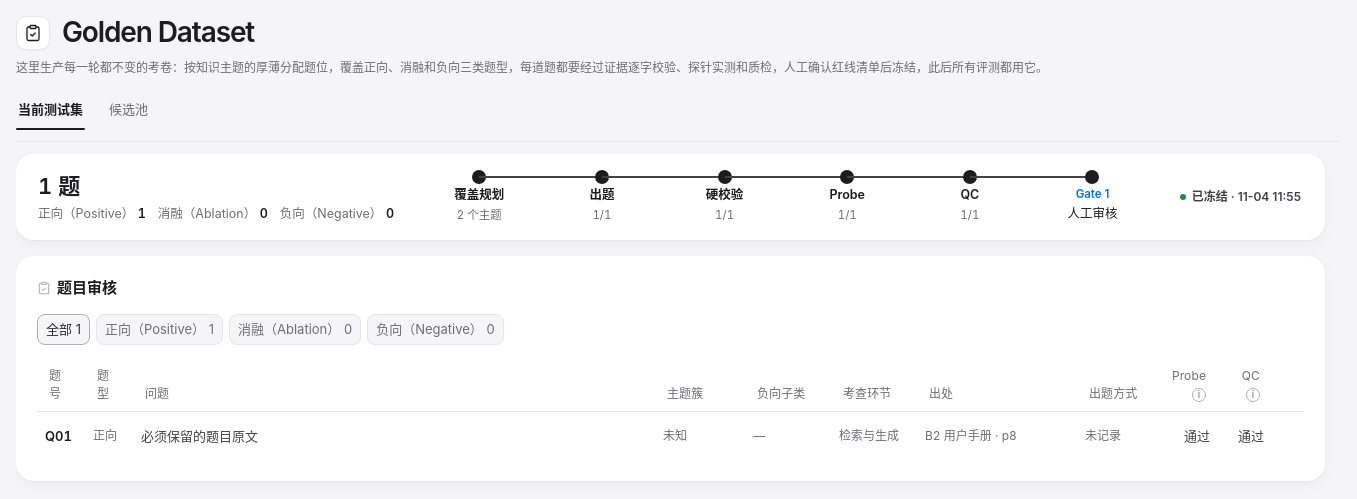
Test: uses the frozen record and saved quality states in the Golden summary
Expected: the element with class "ui-gp" shows "1 题", [16, 154, 1325, 240]
Expected: the element with class "ui-gp" shows "11-04", [1192, 189, 1301, 204]
Click the button "候选池": [128, 109] box [107, 89, 150, 129]
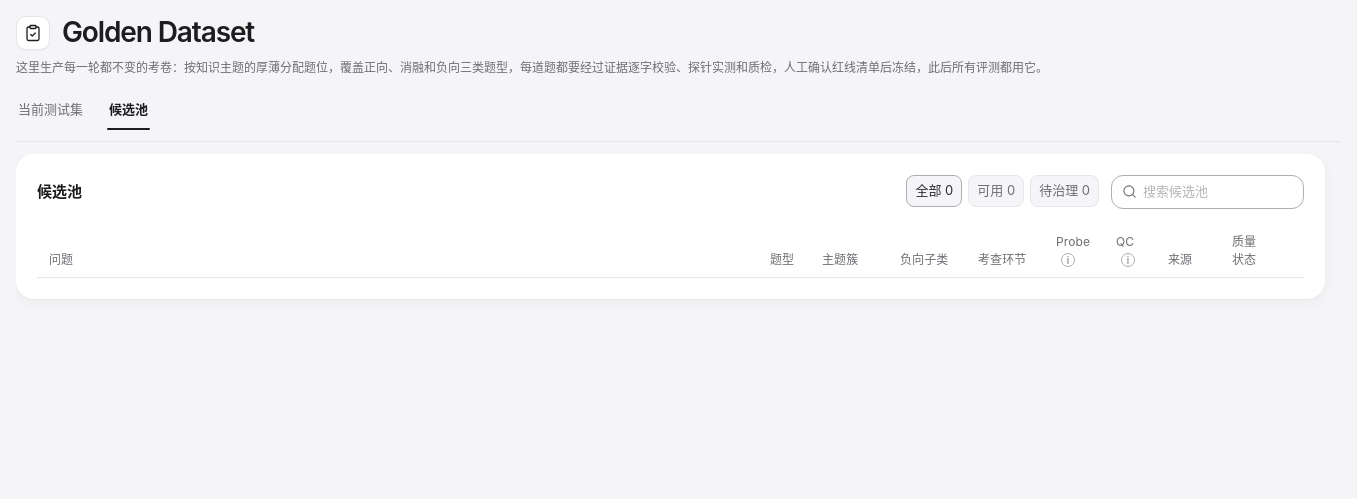
Result: the element with class "ui-gp" is gone
